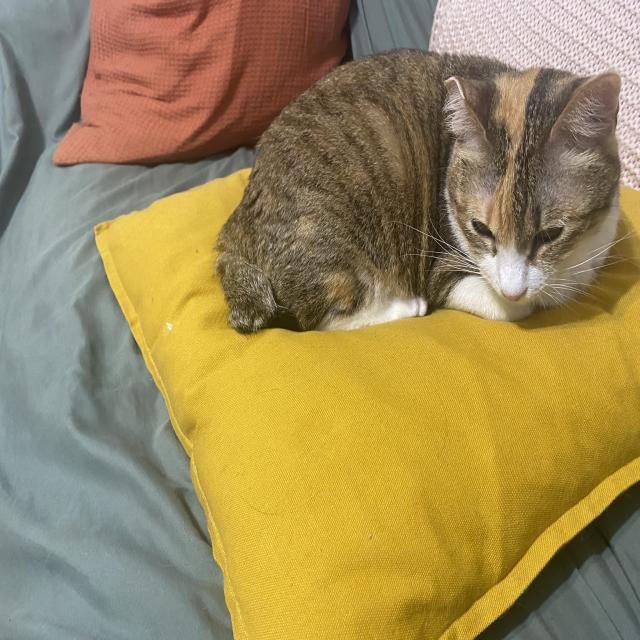cat2: (212, 43, 624, 336)
